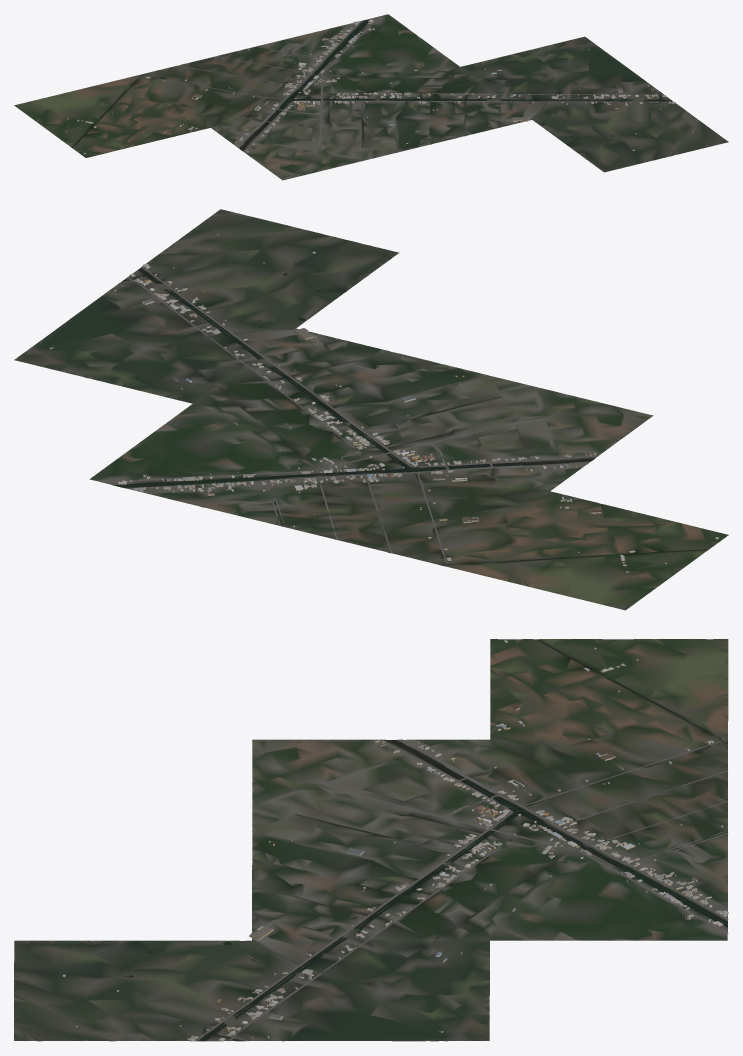
The picture shows the model from 3 angles, top to bottom: view 1: azimuth 30°, elevation 25°; view 2: azimuth 150°, elevation 25°; view 3: azimuth 270°, elevation 25°; orthographic projection. The views are drawn at different scales.
Parts seen in each view (by area): view 1: ground, buildings, roads, water; view 2: ground, buildings, roads, water; view 3: ground, buildings, roads, water.
Boxes of the visible parts, bbox=[...] form: ground: bbox=[14, 14, 728, 180]; buildings: bbox=[66, 19, 693, 154]; roads: bbox=[143, 16, 671, 152]; water: bbox=[72, 18, 672, 150]; ground: bbox=[14, 209, 728, 610]; buildings: bbox=[49, 233, 718, 572]; roads: bbox=[101, 266, 597, 563]; water: bbox=[113, 268, 705, 564]; ground: bbox=[14, 639, 728, 1041]; buildings: bbox=[62, 640, 728, 1041]; roads: bbox=[195, 739, 728, 1041]; water: bbox=[125, 640, 727, 1041].
Size of the model in its own units: 5605 by 17.11 by 4210.
